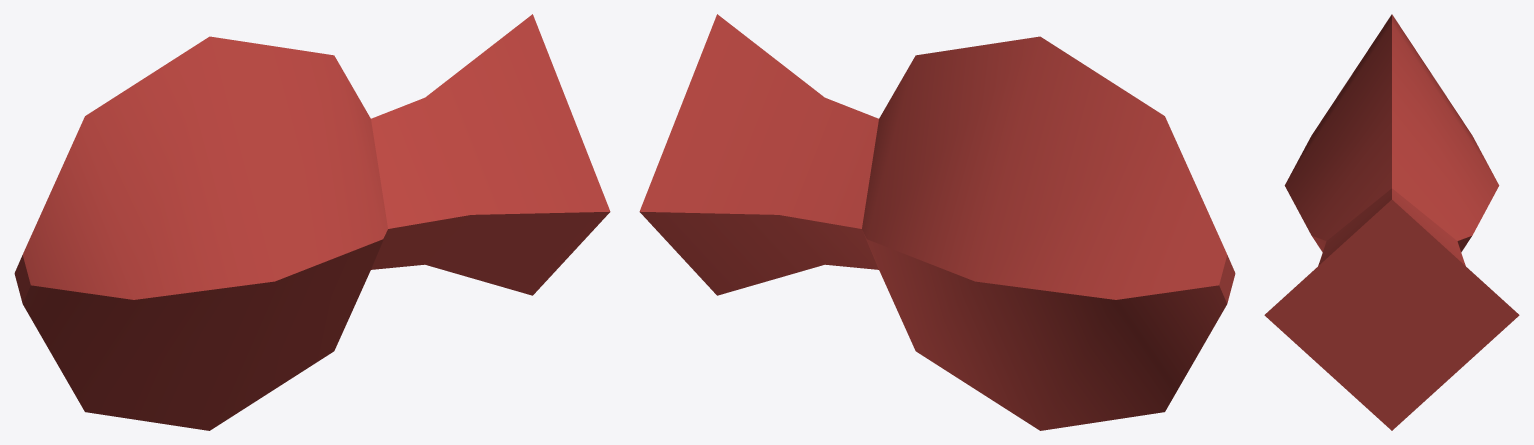
The model's file is snail_lod2.glb.
3 renders of one model, left to right at view 1: azimuth 30°, elevation 25°; view 2: azimuth 150°, elevation 25°; view 3: azimuth 270°, elevation 25°, orthographic. The views are drawn at different scales.
Parts seen in each view (by area): view 1: snail_lod2; view 2: snail_lod2; view 3: snail_lod2.
Part boxes in pixels (x1,y1,x2,y2): snail_lod2: (14,14,610,430); snail_lod2: (639,14,1235,430); snail_lod2: (1264,14,1519,430).
Bounding box in the file's own units: 0.0947 × 0.07 × 0.05.
